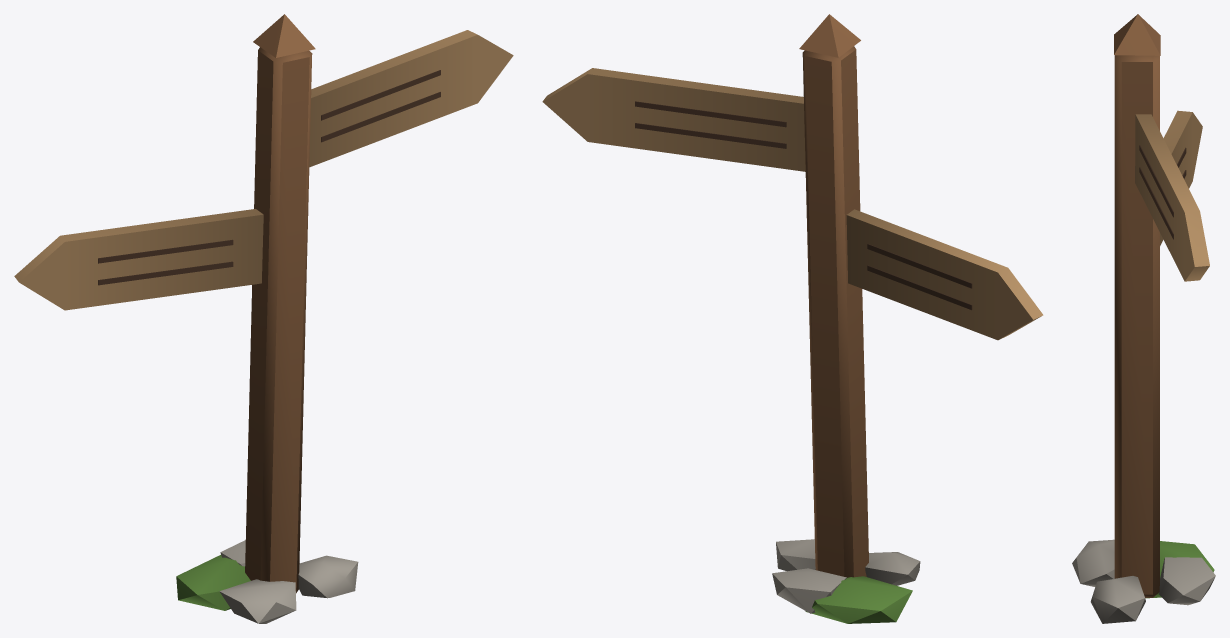
File: signpost.glb
3 renders of one model, left to right at view 1: azimuth 30°, elevation 25°; view 2: azimuth 150°, elevation 25°; view 3: azimuth 270°, elevation 25°, orthographic. The views are drawn at different scales.
Parts seen in each view (by area): view 1: signpost; view 2: signpost; view 3: signpost.
Part boxes in pixels (x1,y1,x2,y2): signpost: [14, 14, 513, 623]; signpost: [542, 14, 1043, 623]; signpost: [1072, 14, 1215, 623].
Size of the model in its own units: 1.67 by 1.89 by 0.4136.
